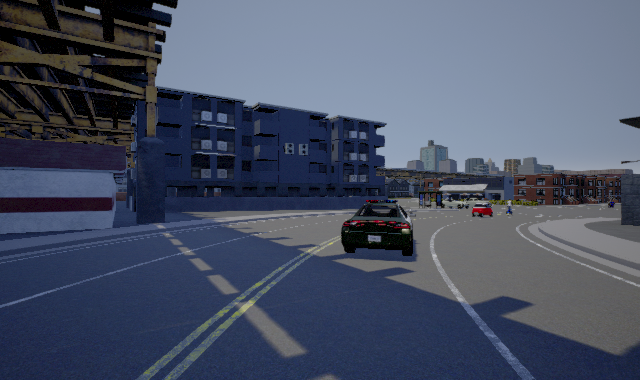bike: (503, 199, 516, 215)
vehicle: (341, 200, 416, 256), (438, 196, 470, 211), (473, 198, 493, 219)
